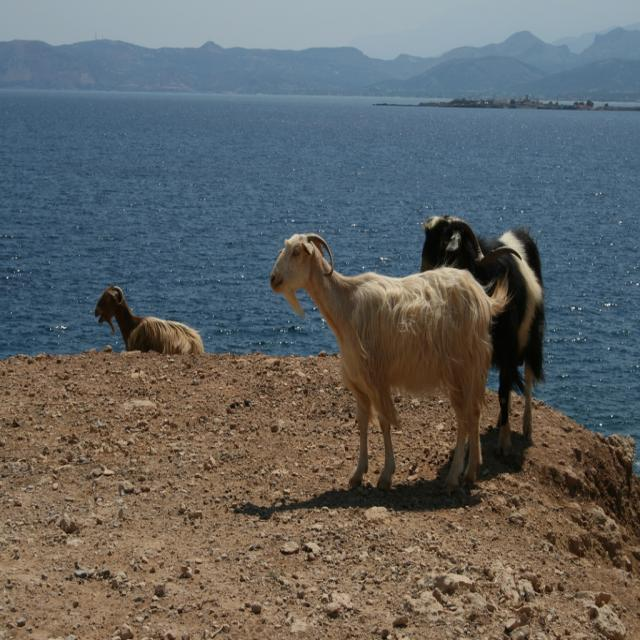Goat: (269, 230, 511, 494), (420, 212, 546, 457), (94, 283, 204, 356)
